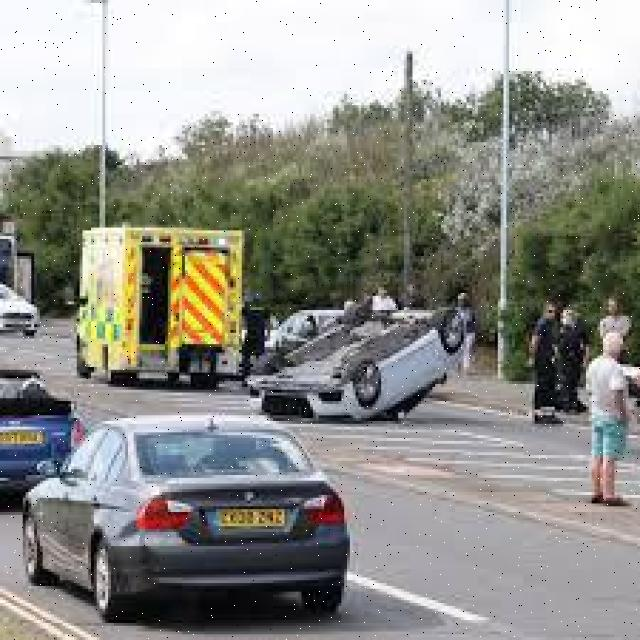severe: (239, 294, 478, 428)
